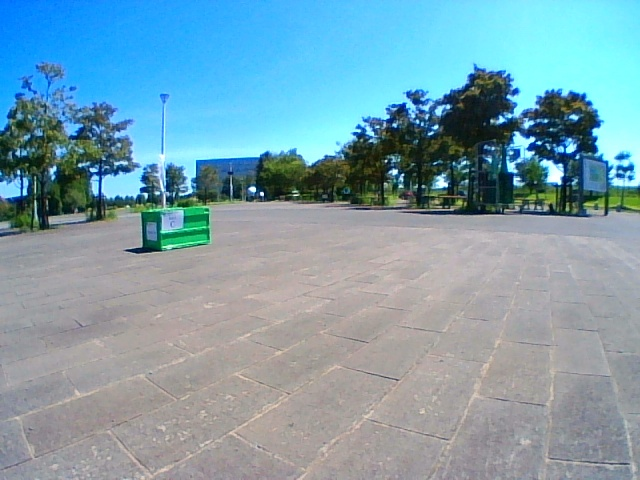green_box: (140, 207, 210, 249)
tag: (162, 213, 181, 230)
